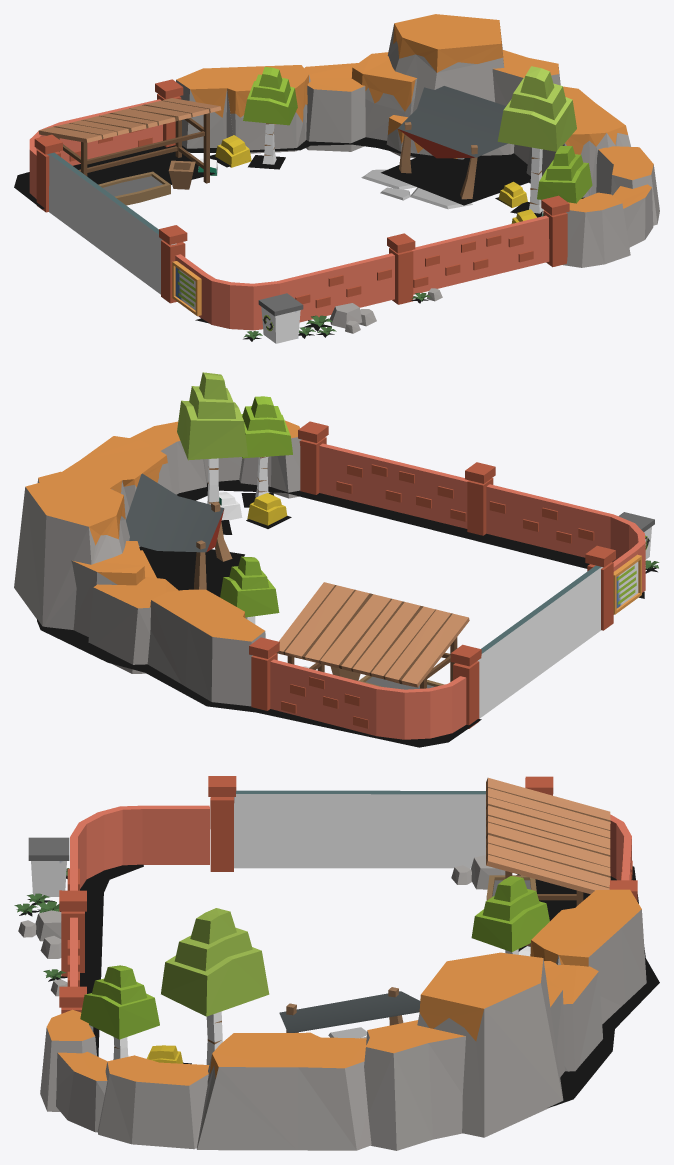
The model's file is xweilan_1002_4.FBX.
The picture shows the model from 3 angles, top to bottom: view 1: azimuth 30°, elevation 25°; view 2: azimuth 150°, elevation 25°; view 3: azimuth 270°, elevation 25°; orthographic projection. The views are drawn at different scales.
Visible parts, largest first — view 1: xweilan_1002_4; view 2: xweilan_1002_4; view 3: xweilan_1002_4.
Boxes of the visible parts, x1,y1,x2,y2 form: xweilan_1002_4: [14, 14, 659, 343]; xweilan_1002_4: [14, 372, 659, 747]; xweilan_1002_4: [14, 776, 659, 1150].
Size of the model in its own units: 4801 by 1437 by 4472.
